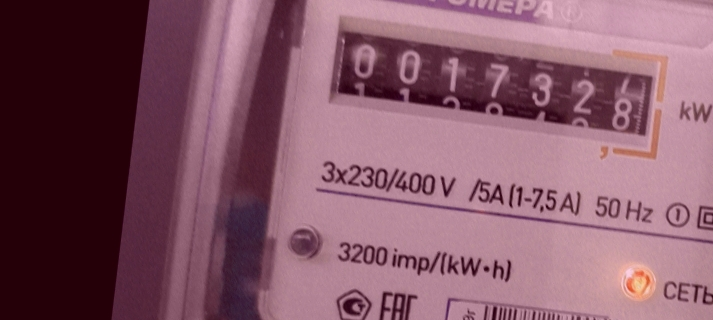0: (348, 39, 378, 82), (395, 46, 422, 87)
1: (439, 53, 462, 94)
2: (569, 77, 595, 116)
3: (528, 70, 554, 108)
7: (483, 60, 509, 101)
8: (608, 94, 631, 132)
screen: (313, 11, 678, 168)
